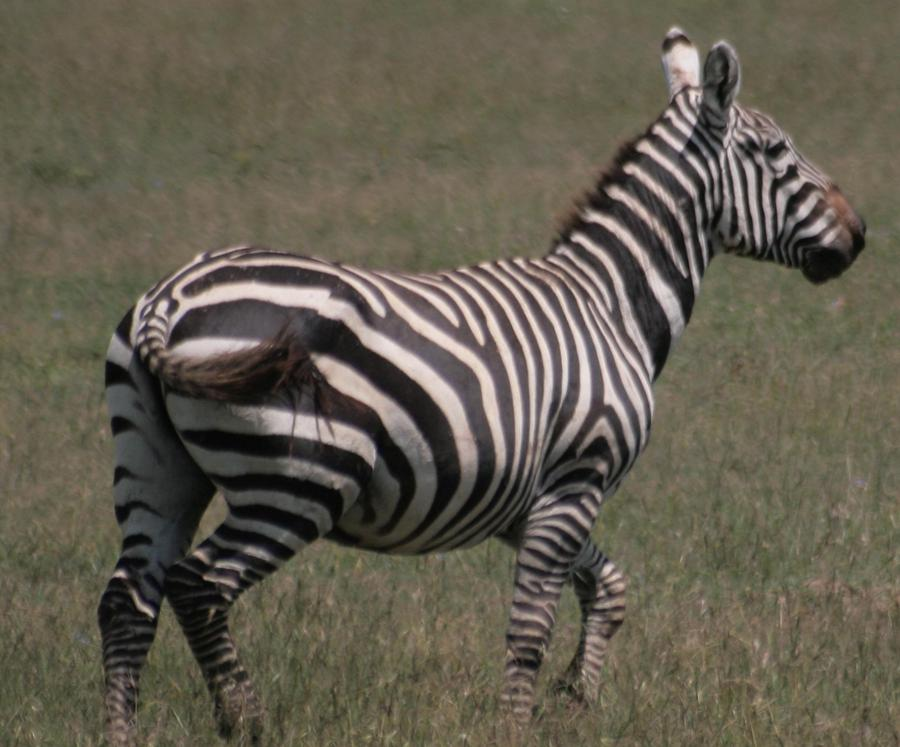zebra_plains: (176, 215, 633, 586)
